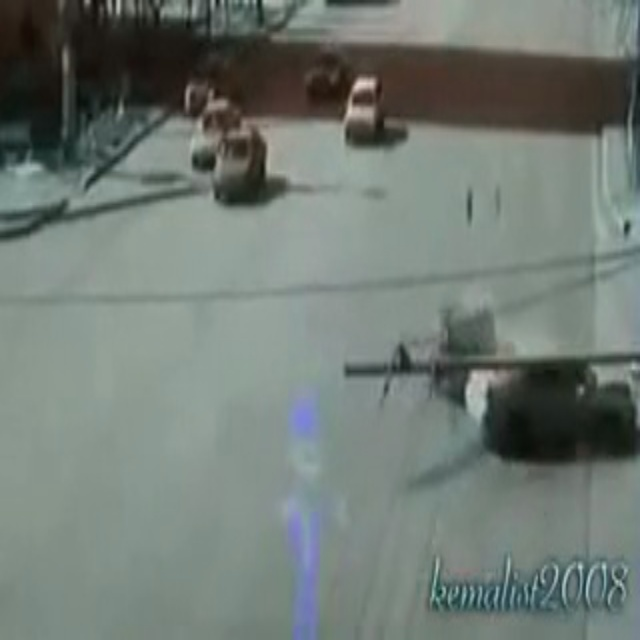acc: (375, 284, 636, 467)
